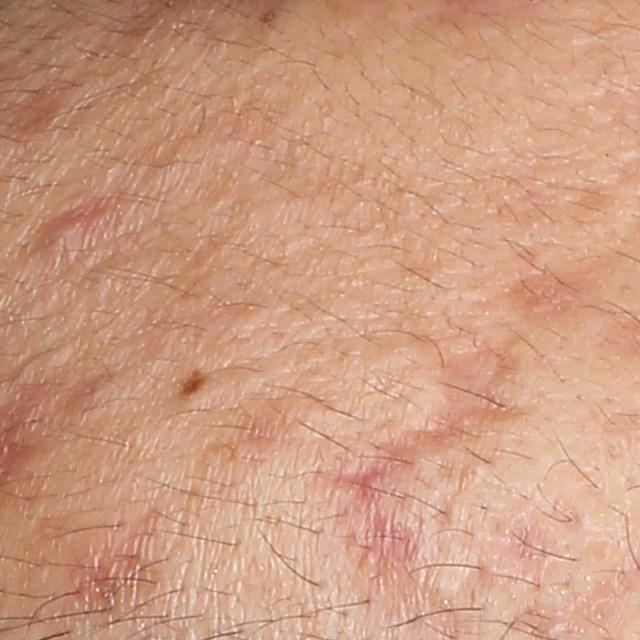atrophic_scar: (316, 344, 538, 492), (499, 257, 603, 329), (495, 520, 551, 578), (505, 599, 564, 639)
nevus: (169, 367, 207, 401)
papule: (28, 201, 121, 280)
